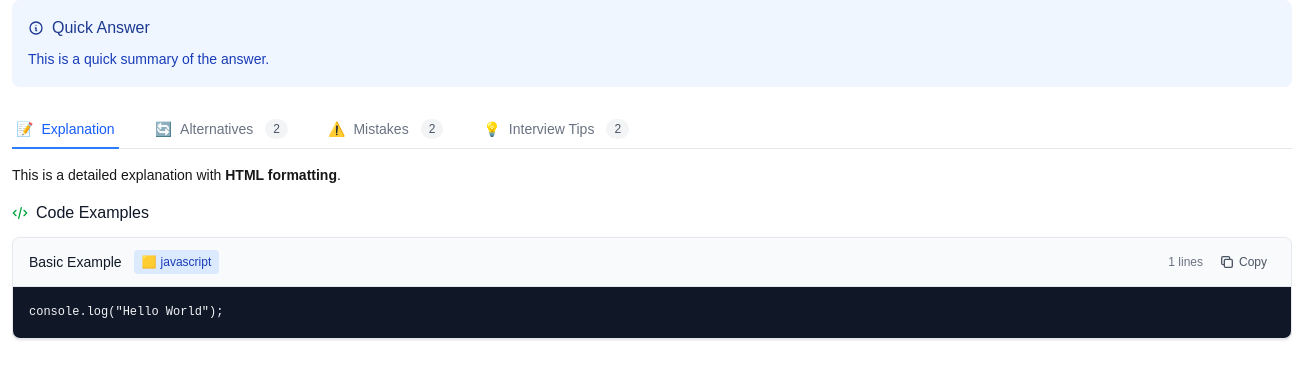
DetailedAnswer › switches to mistakes tab when clicked
The image size is (1292, 370).
Click the button "⚠️ Mistakes 2" at (386, 130), box [324,111,447,149]
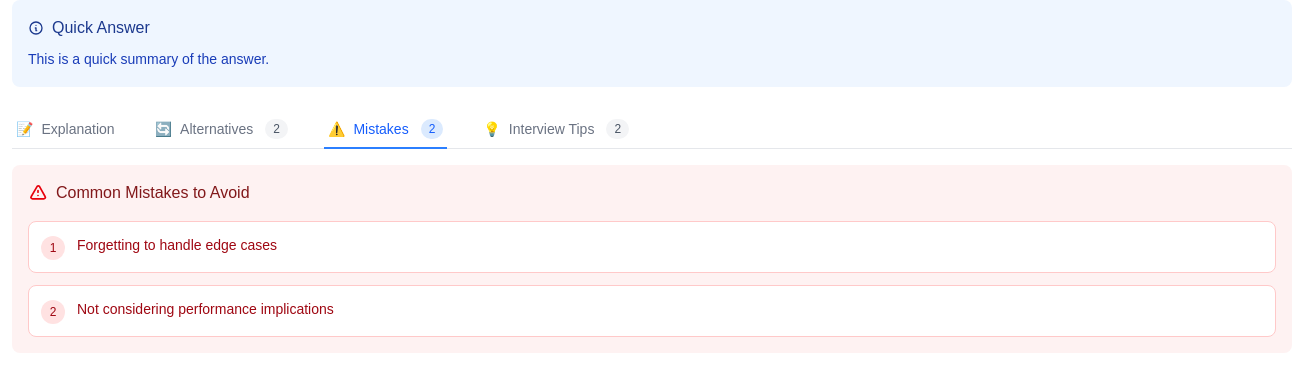
Result: the heading "Common Mistakes to Avoid" is shown at [56,181,250,205]
Result: the text "Forgetting to handle edge cases" is shown at [77,237,277,253]
Result: the text "Not considering performance implications" is shown at [77,301,334,317]
